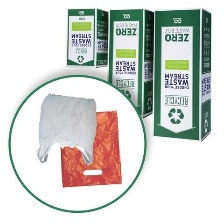plastic_bag: (50, 103, 126, 193), (28, 90, 98, 168)
